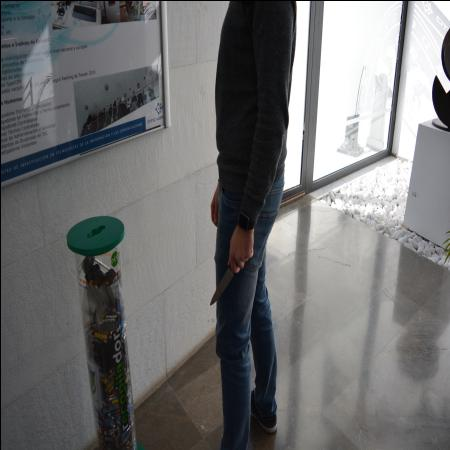long weapon: (206, 256, 238, 306)
